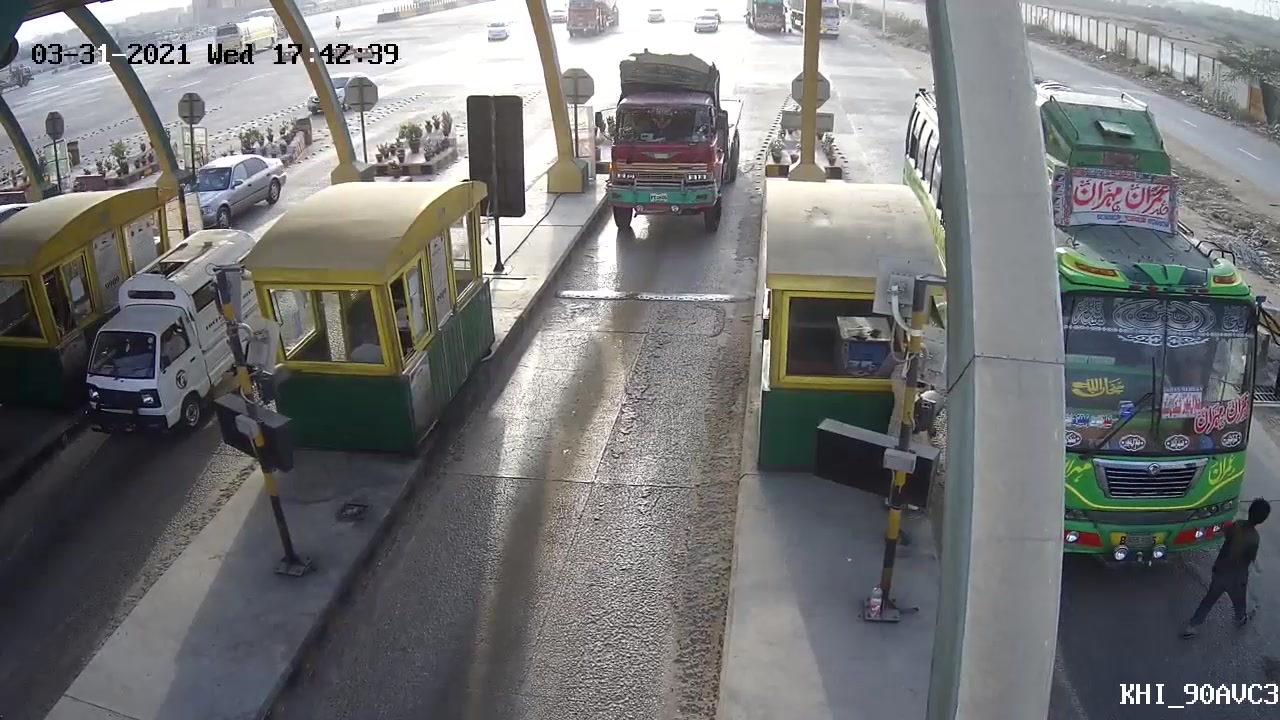F5: (594, 51, 747, 240)
